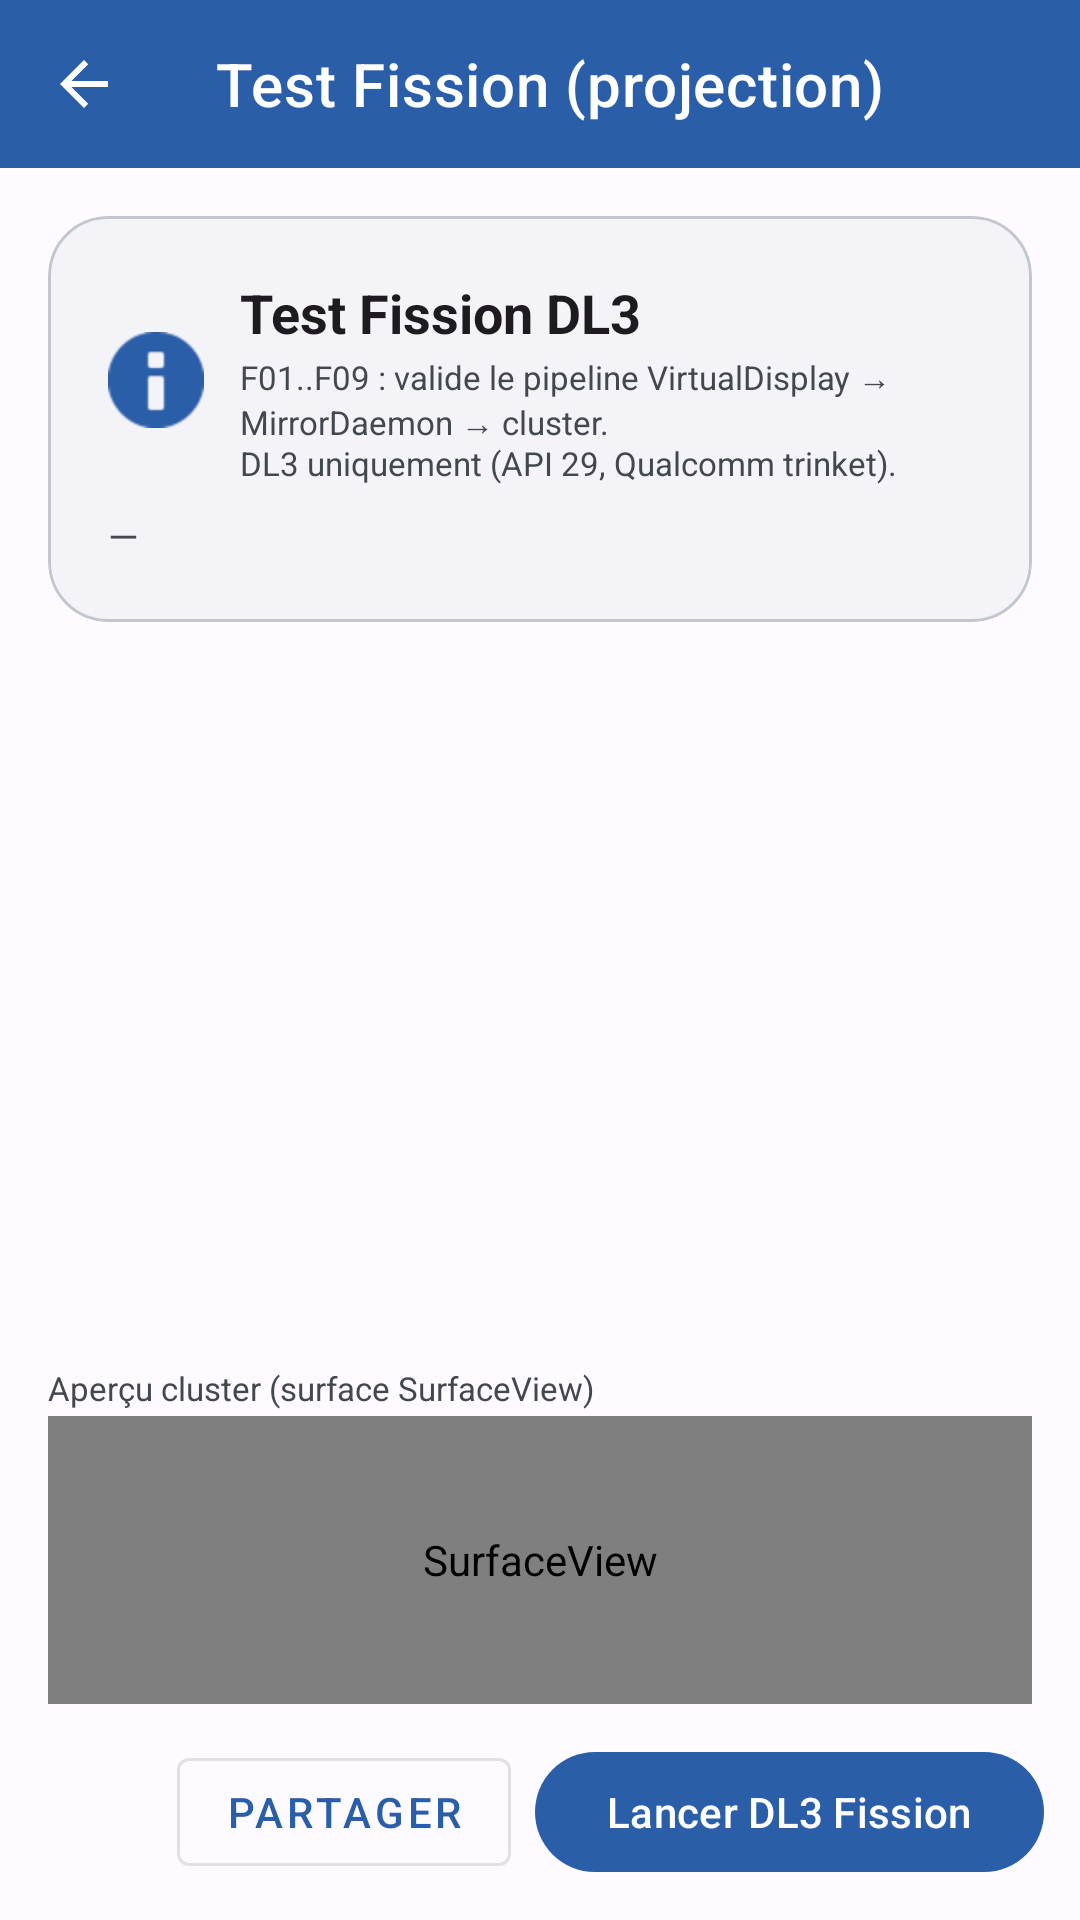

Icons on this 1080*1920 Android screen, each with the point to tap as (x=x, y=y):
info: (x=156, y=380)
